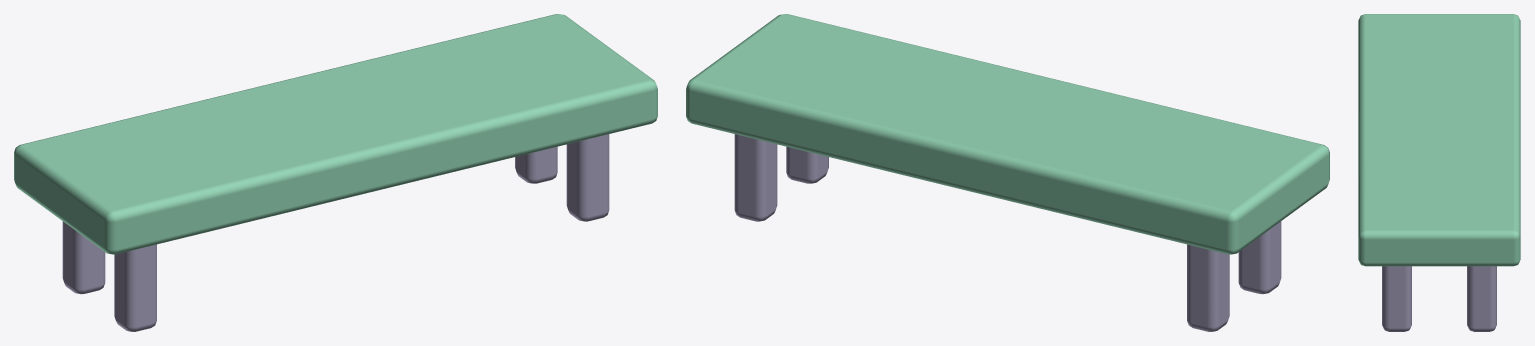
File: bench.glb
The picture shows the model from 3 angles, left to right: view 1: azimuth 30°, elevation 25°; view 2: azimuth 150°, elevation 25°; view 3: azimuth 270°, elevation 25°; orthographic projection. The views are drawn at different scales.
Parts seen in each view (by area): view 1: part (×5); view 2: part (×5); view 3: part (×3).
Boxes of the visible parts, x1,y1,x2,y2 form: part (×5): [14, 14, 657, 331]; part (×5): [686, 14, 1329, 331]; part (×3): [1358, 14, 1520, 331].
Size of the model in its own units: 2.1 by 0.51 by 0.65.
Materials: 1 (1 with a texture image).
